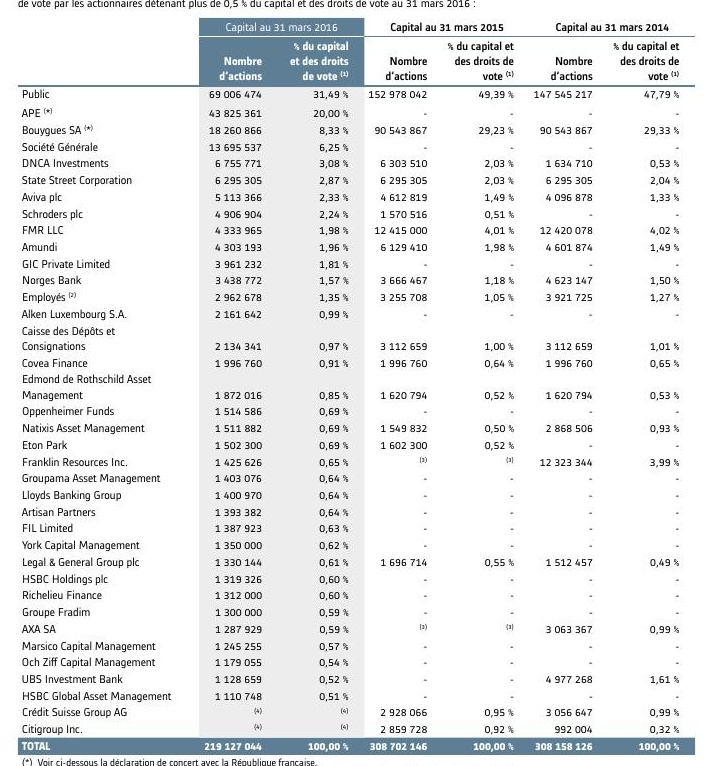table: (0, 0, 715, 766)
